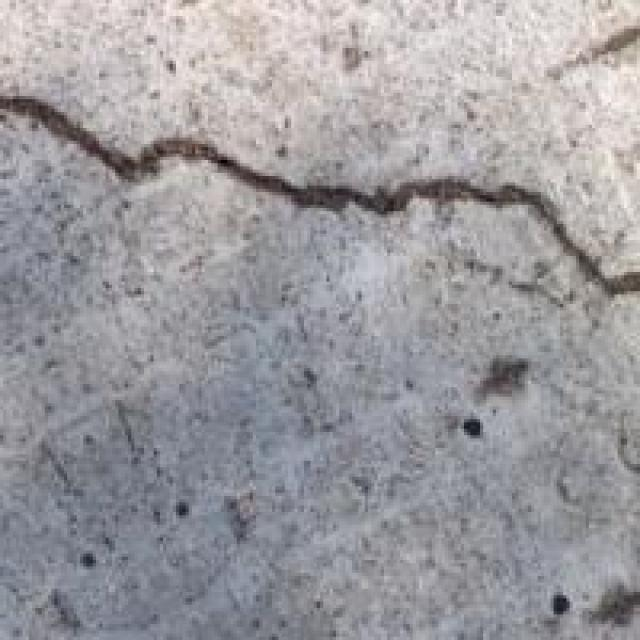crack: (0, 54, 637, 368)
